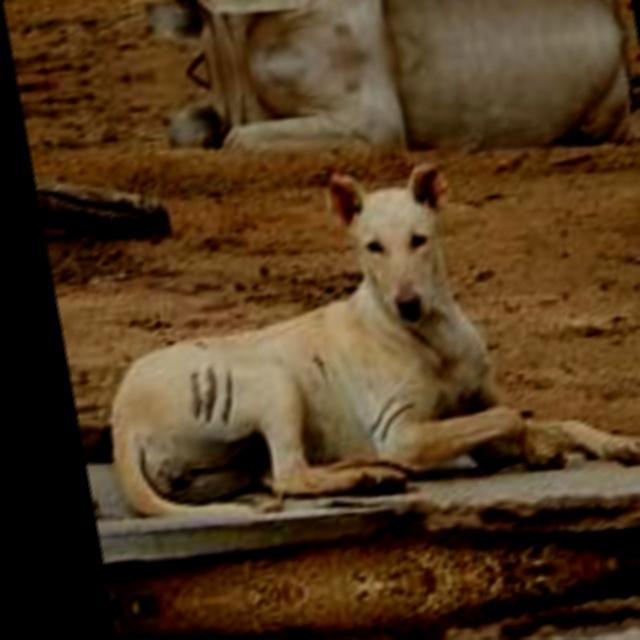dog: (49, 156, 558, 581), (127, 595, 578, 640)
